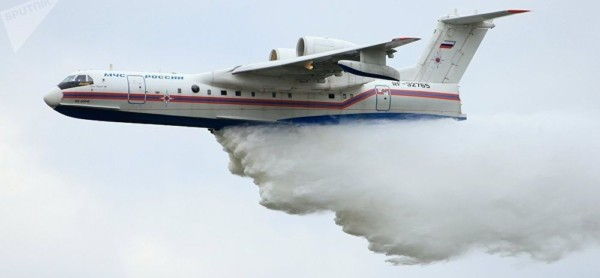Aeronef_de_service: (28, 6, 535, 138)
